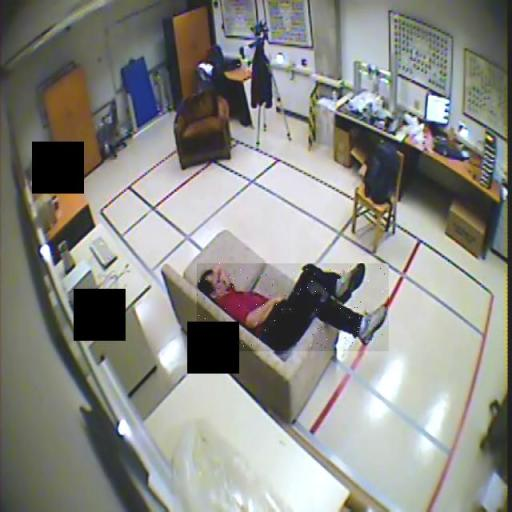Fall: (197, 264, 389, 354)
